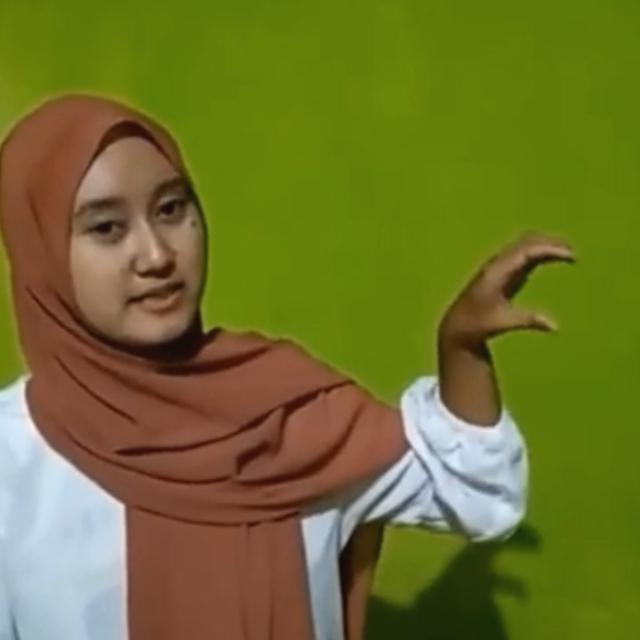C: (436, 230, 578, 354)
